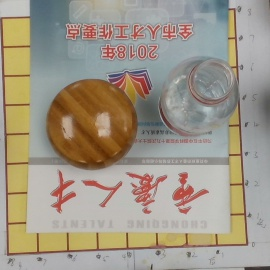bottle: (154, 56, 239, 139)
chess: (48, 79, 138, 170)
